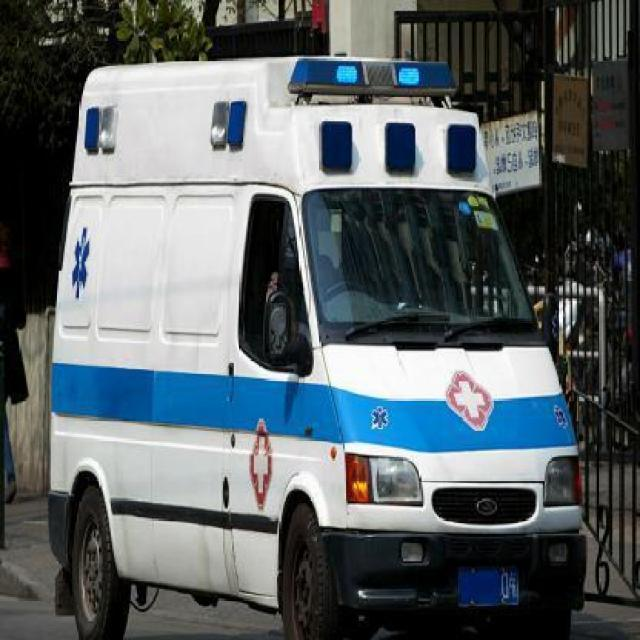emergency: (45, 54, 588, 638)
